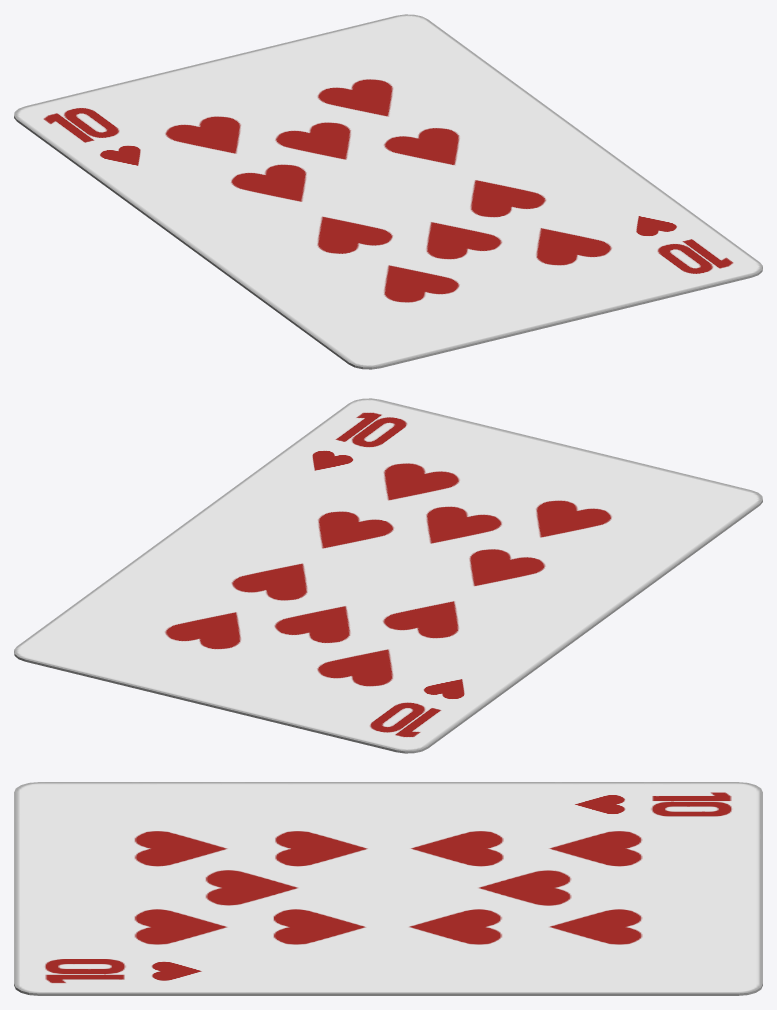
The model's file is TrumpCard_10.fbx.
3 renders of one model, top to bottom at view 1: azimuth 30°, elevation 25°; view 2: azimuth 150°, elevation 25°; view 3: azimuth 270°, elevation 25°, orthographic. The views are drawn at different scales.
Visible parts, largest first — view 1: TrumpCard_10; view 2: TrumpCard_10; view 3: TrumpCard_10.
Boxes of the visible parts, left/top/right/bottom form: TrumpCard_10: left=14, top=14, right=762, bottom=369; TrumpCard_10: left=14, top=398, right=762, bottom=753; TrumpCard_10: left=14, top=782, right=762, bottom=995.
Bounding box in the file's own units: 8 × 0.04 × 11.98.
